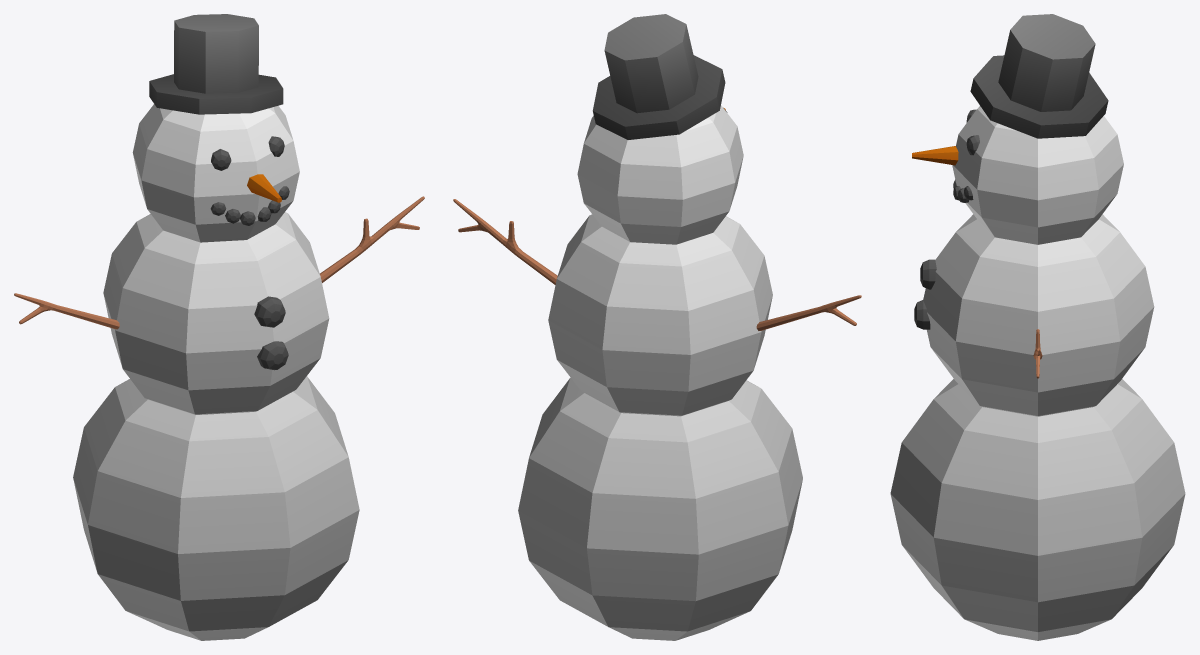
The model's file is snowman.fbx.
3 renders of one model, left to right at view 1: azimuth 30°, elevation 25°; view 2: azimuth 150°, elevation 25°; view 3: azimuth 270°, elevation 25°, orthographic.
Visible parts, largest first — view 1: snowman; view 2: snowman; view 3: snowman.
Boxes of the visible parts, <box> form: snowman: <box>14,14,424,640</box>; snowman: <box>453,14,861,640</box>; snowman: <box>890,14,1185,640</box>.
Bounding box in the file's own units: 131 × 185 × 82.16.
